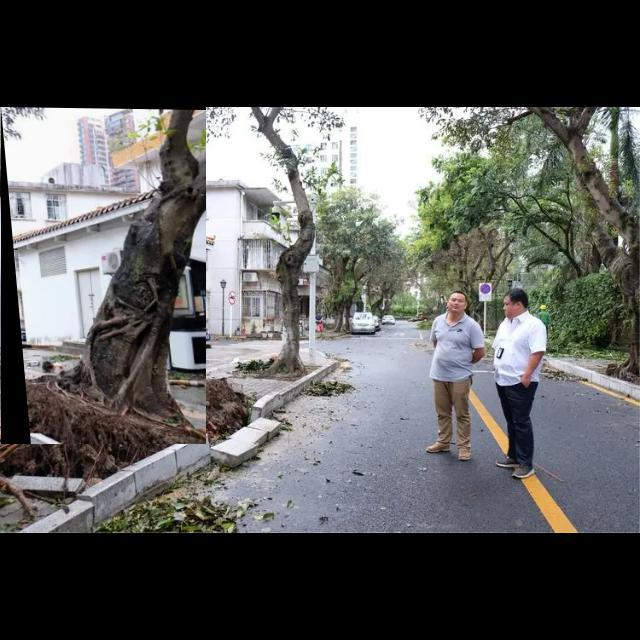fallen_tree: (1, 107, 207, 445)
